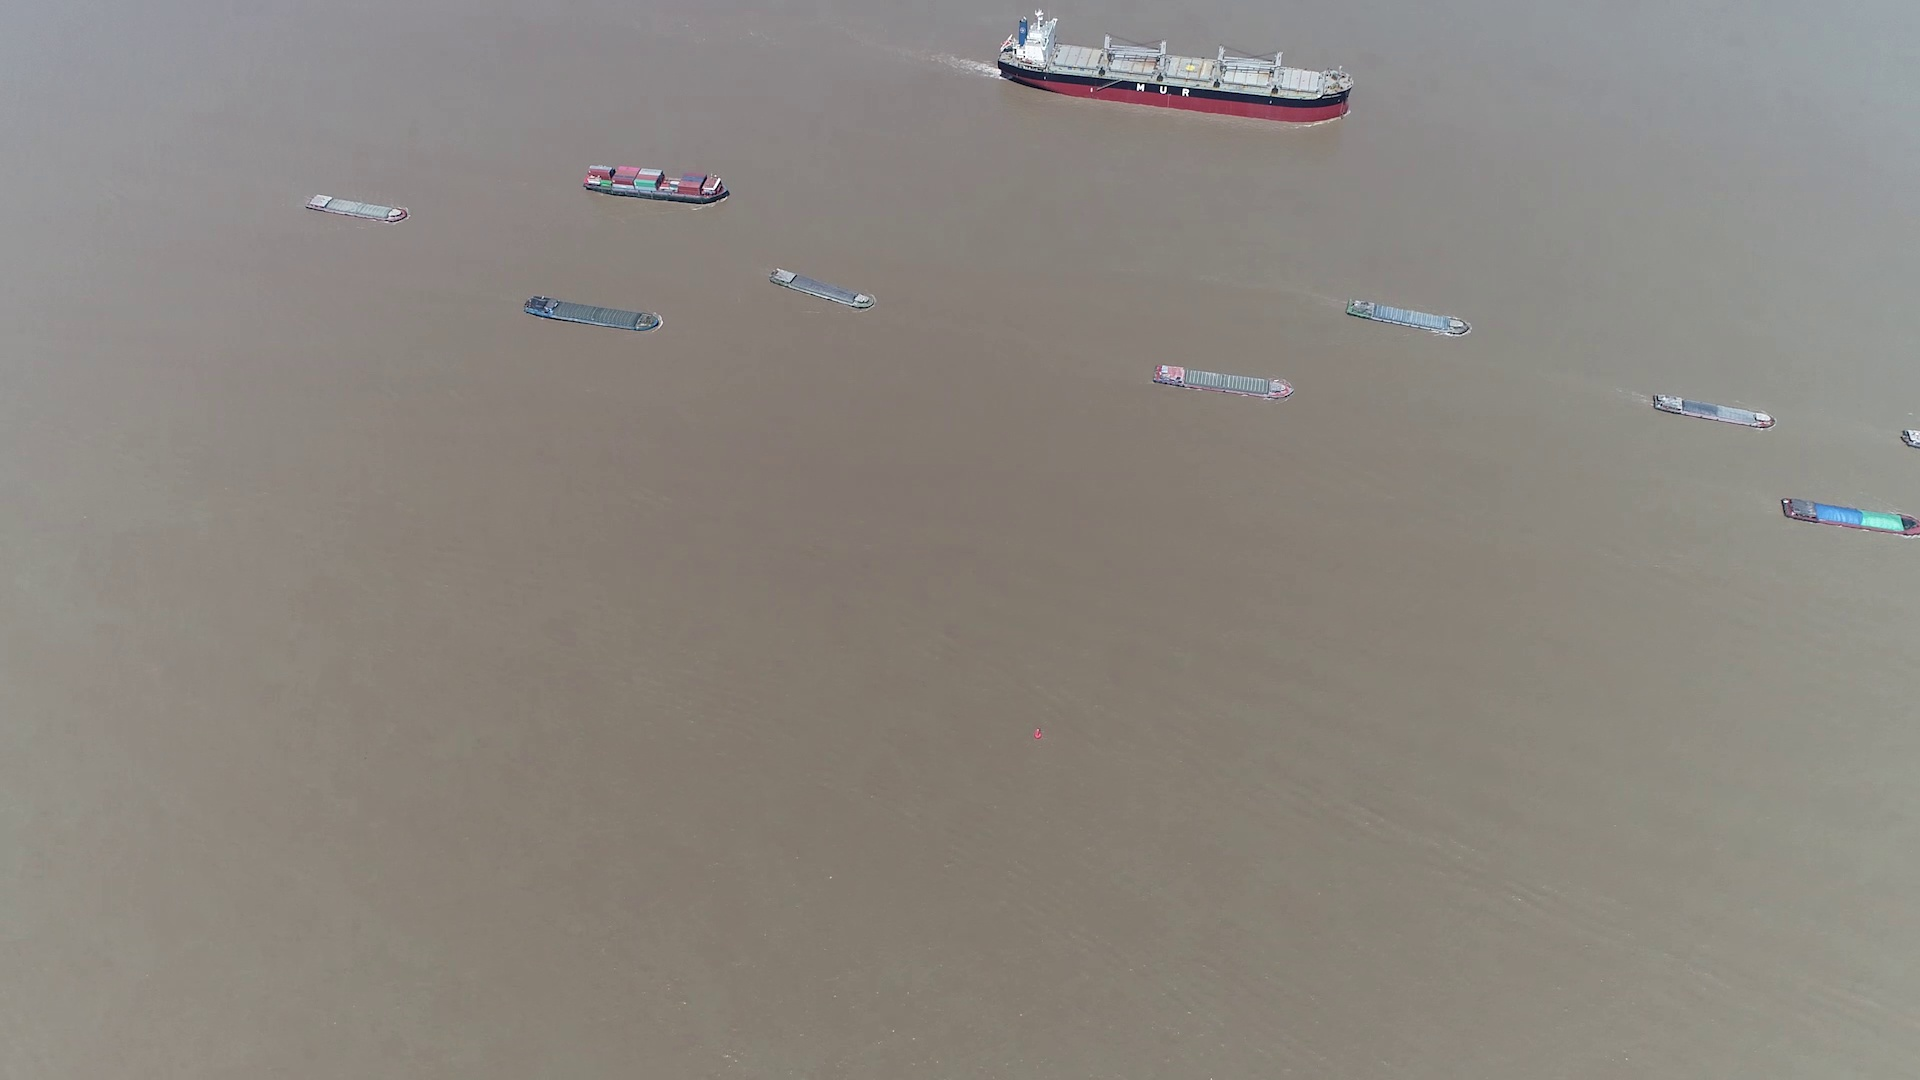ship: (998, 18, 1353, 123), (1780, 496, 1920, 539), (583, 164, 729, 204), (1346, 298, 1473, 339), (524, 297, 661, 334), (1153, 364, 1291, 400), (1648, 392, 1775, 430), (770, 268, 876, 311), (302, 193, 407, 224)
